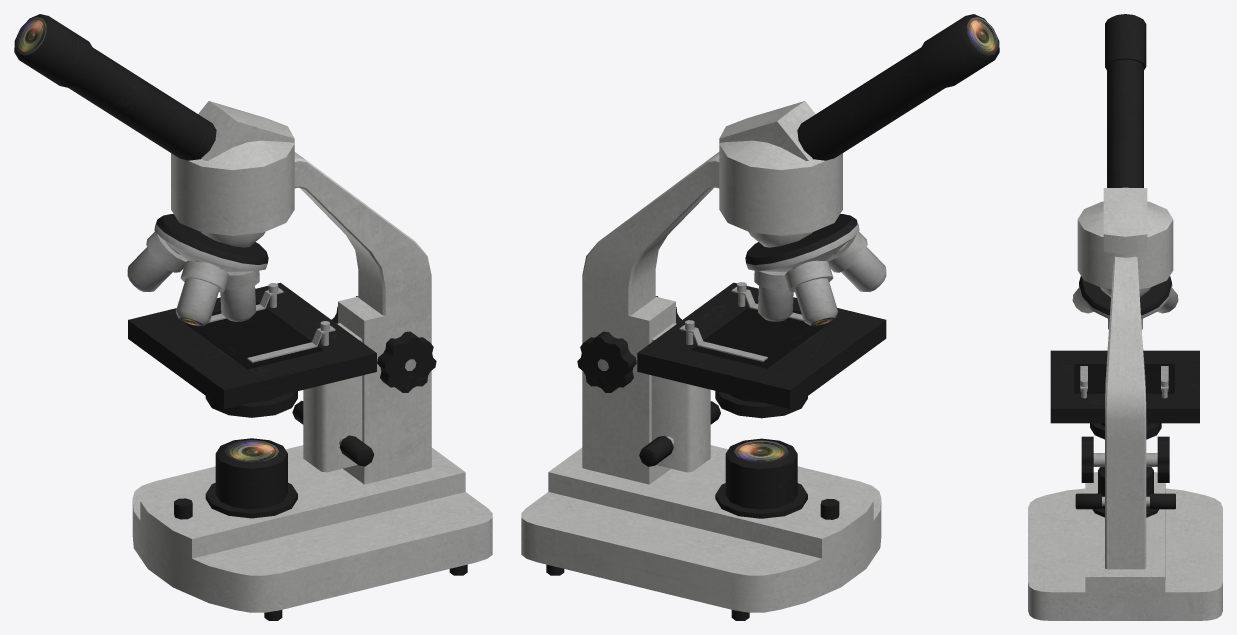
Rendered from SM_显微镜.fbx.
The picture shows the model from 3 angles, left to right: view 1: azimuth 30°, elevation 25°; view 2: azimuth 150°, elevation 25°; view 3: azimuth 270°, elevation 25°; orthographic projection. The views are drawn at different scales.
Parts seen in each view (by area): view 1: SM_显微镜; view 2: SM_显微镜; view 3: SM_显微镜.
Part boxes in pixels (left/top/right/bottom): SM_显微镜: left=14, top=14, right=492, bottom=620; SM_显微镜: left=521, top=14, right=999, bottom=620; SM_显微镜: left=1028, top=14, right=1222, bottom=620.
Bounding box in the file's own units: 0.3425 × 0.4681 × 0.1769.
